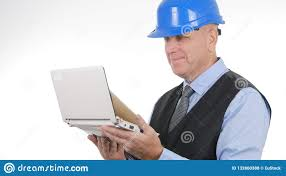Person_wearing_helmet: (142, 0, 228, 46)
